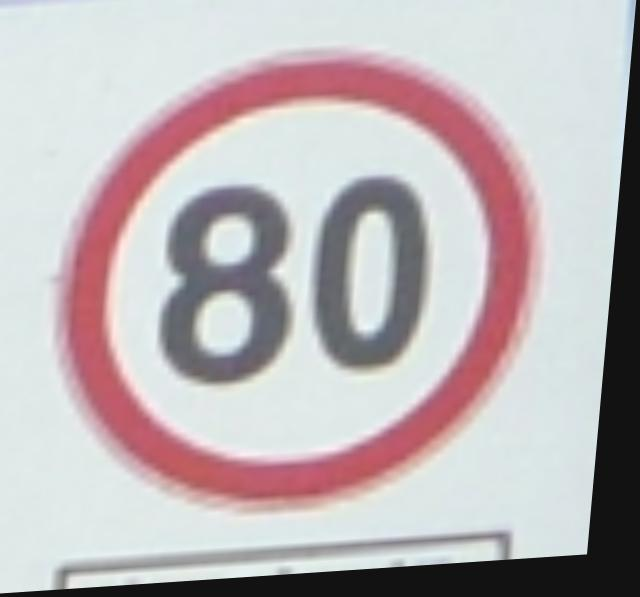limit80: (34, 26, 574, 536)
